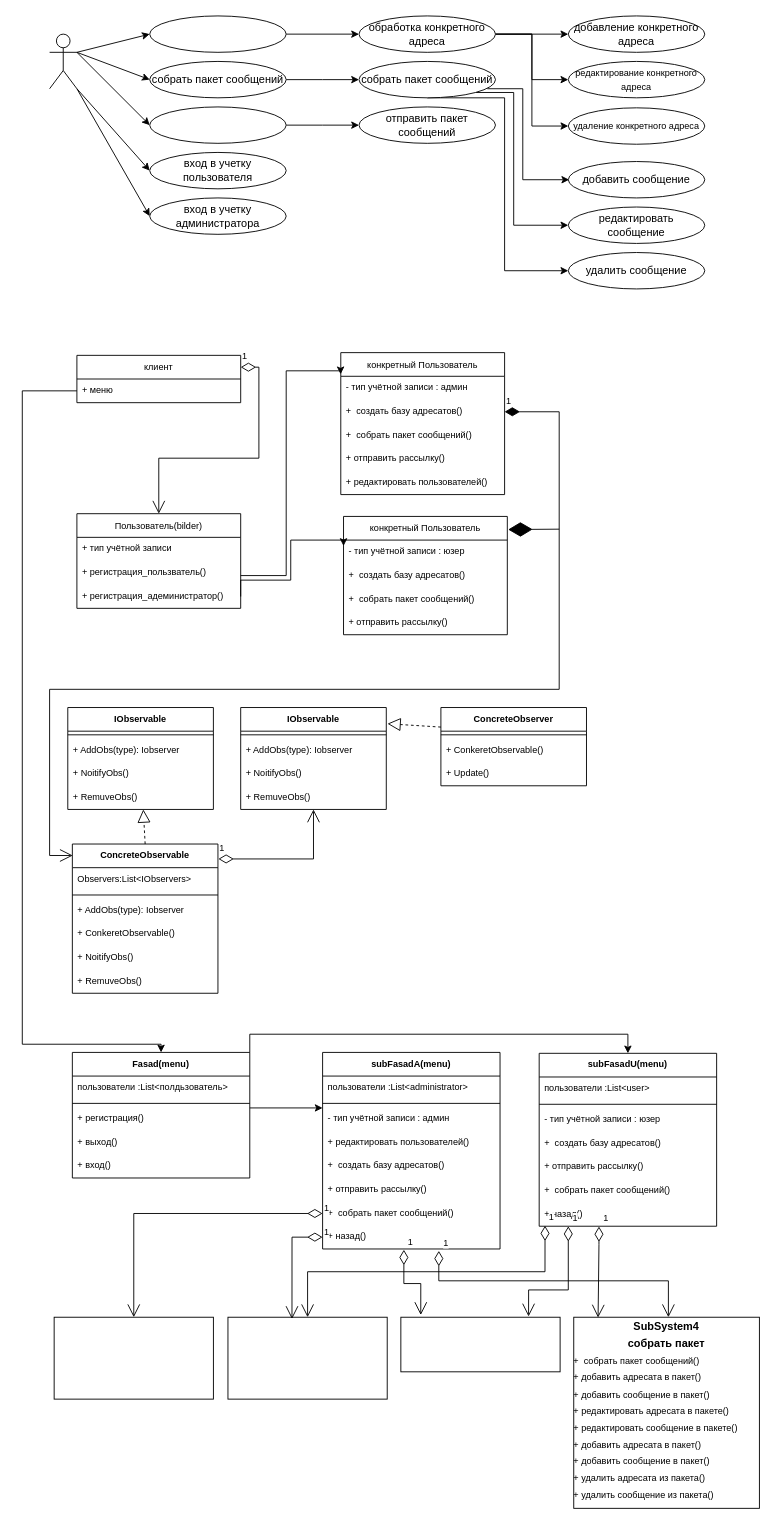
Some shapes in this 775 by 1524 pixel diagram are drawn without their labels. Here are the shapes that lost their labels. From the top down, the centre of each, then its label:
At point 217,33: "создать базу адресатов".
At point 63,61: "Actor".
At point 217,124: "отправить рассылку".
At point 133,1357: "SubSystem1 редактировать пользователей() + addUser() + redUser() + delUser()".
At point 307,1357: "SubSystem2 создать базу адресатов() + addAddress() + redAddress() + delAddress()".
At point 480,1344: "SubSystem3 отправить рассылку() + send()".
